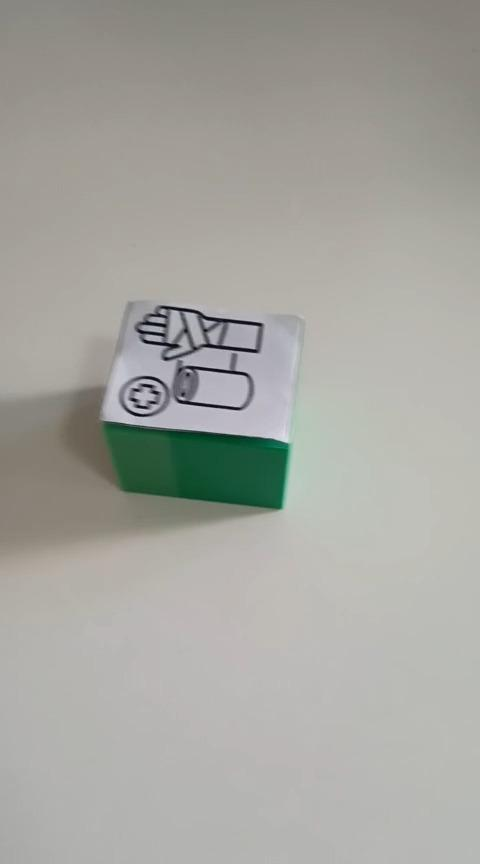Bandages: (98, 298, 305, 510)
